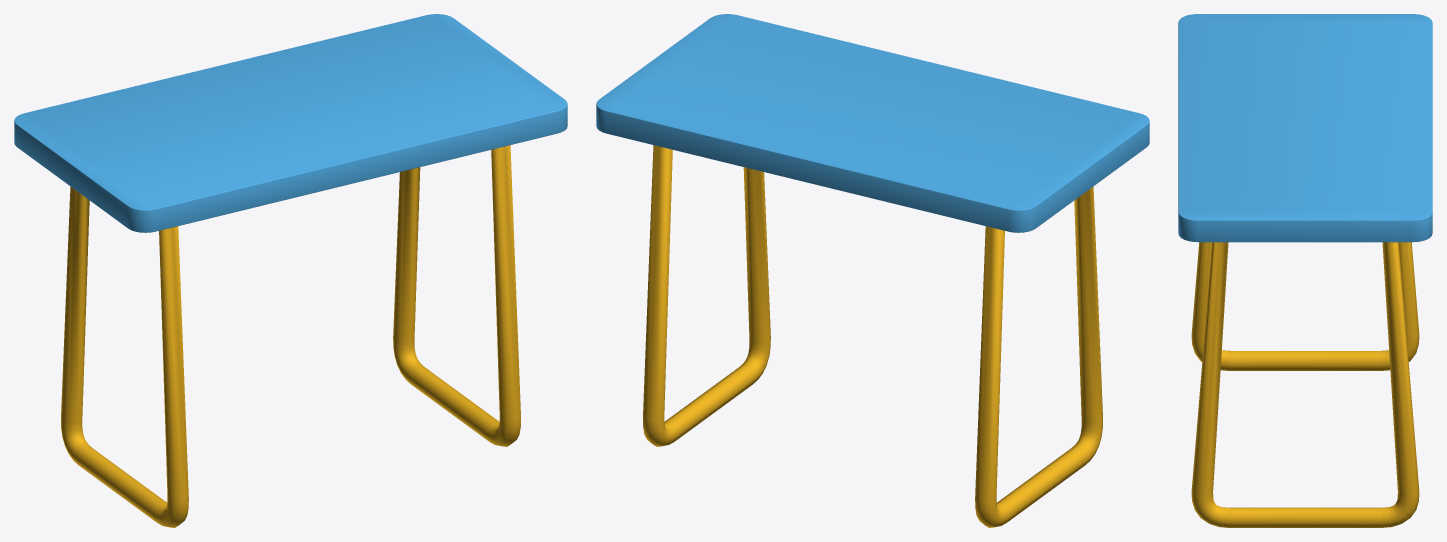
Rendered from mesa_jantar_pes_treno_azul.glb.
3 views of the same model, side by side, from view 1: azimuth 30°, elevation 25°; view 2: azimuth 150°, elevation 25°; view 3: azimuth 270°, elevation 25° (orthographic). The views are drawn at different scales.
Parts seen in each view (by area): view 1: mesa_jantar_pes_treno_azul; view 2: mesa_jantar_pes_treno_azul; view 3: mesa_jantar_pes_treno_azul.
Boxes of the visible parts, <box> form: mesa_jantar_pes_treno_azul: <box>14,14,567,527</box>; mesa_jantar_pes_treno_azul: <box>596,14,1149,527</box>; mesa_jantar_pes_treno_azul: <box>1178,14,1432,527</box>.
Size of the model in its own units: 1 by 0.75 by 0.52.
1 material, 1 textured.
